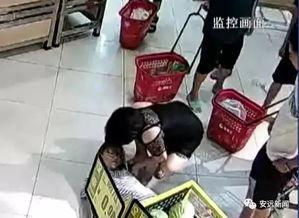Fall-Detected: (78, 135, 219, 216)
